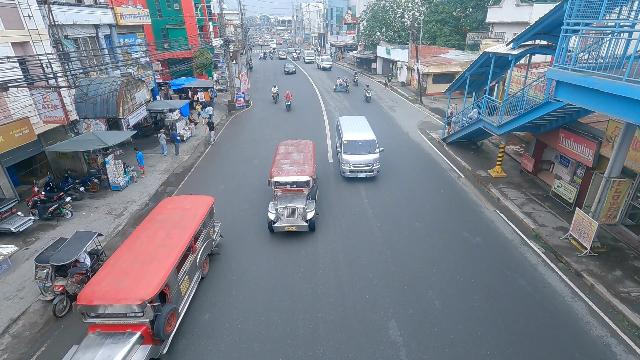car: (283, 62, 297, 75)
jeepney: (61, 194, 218, 360), (266, 138, 318, 234), (277, 48, 287, 60)
motorcycle: (269, 87, 280, 104), (363, 87, 373, 103), (284, 94, 292, 111), (352, 74, 359, 86), (248, 58, 253, 72), (269, 52, 273, 60)
truck: (315, 54, 333, 72), (302, 49, 315, 63)
van: (335, 114, 383, 180)
